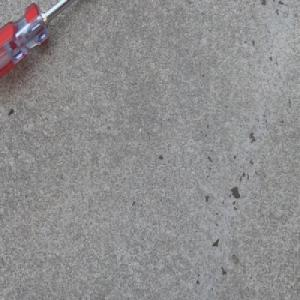Screwdriver: (0, 0, 76, 82)
